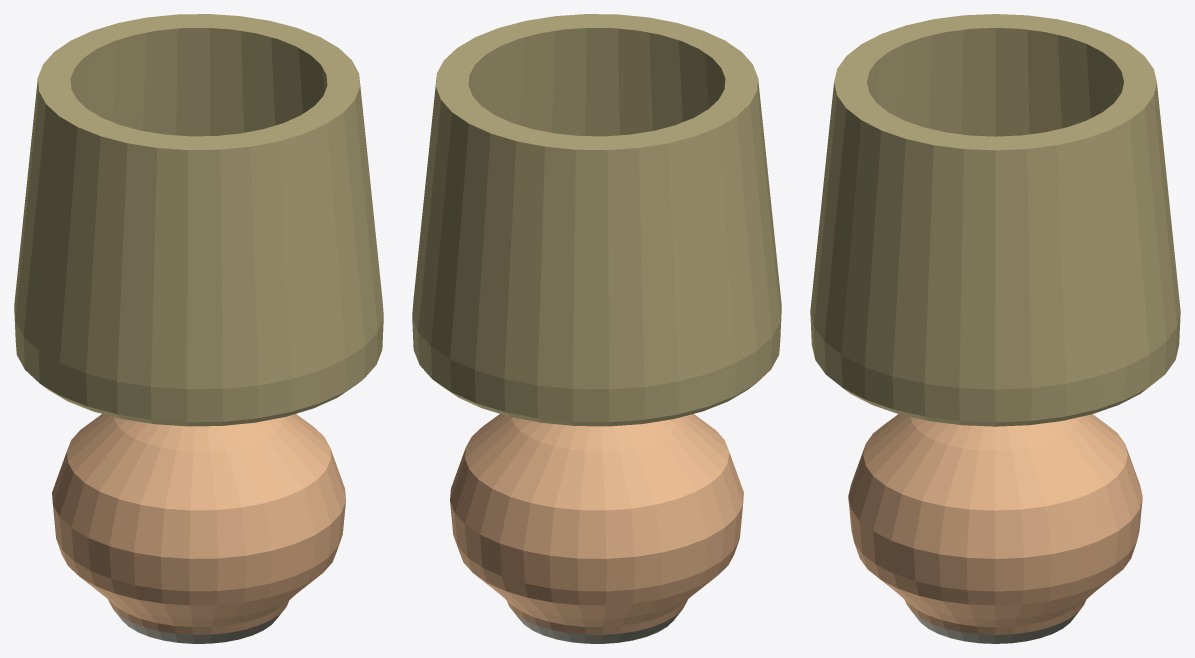
Rendered from abajur.fbx.
3 renders of one model, left to right at view 1: azimuth 30°, elevation 25°; view 2: azimuth 150°, elevation 25°; view 3: azimuth 270°, elevation 25°, orthographic.
Visible parts, largest first — view 1: Cylinder; view 2: Cylinder; view 3: Cylinder.
Boxes of the visible parts, bbox=[...] form: Cylinder: bbox=[14, 14, 383, 643]; Cylinder: bbox=[412, 14, 781, 643]; Cylinder: bbox=[810, 14, 1180, 643].
Size of the model in its own units: 198 by 319 by 198.
